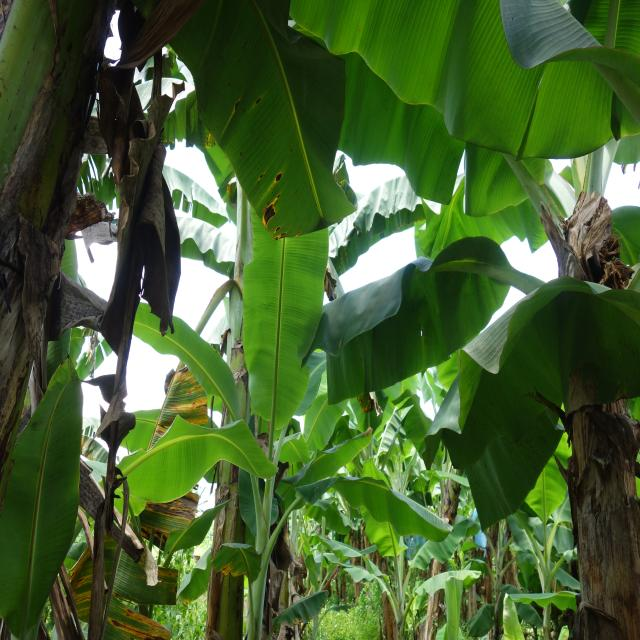Banana-plant: (528, 193, 640, 640)
